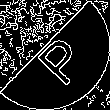P_NW: (23, 24, 87, 86)
